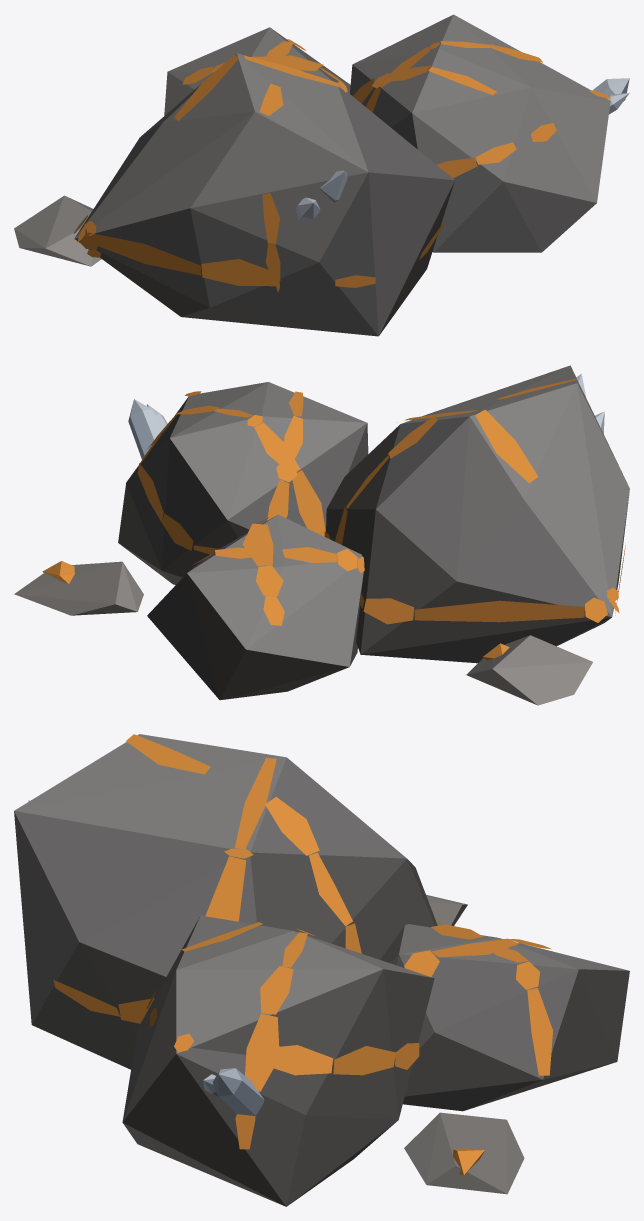
File: rock_lava_2.glb
3 renders of one model, top to bottom at view 1: azimuth 30°, elevation 25°; view 2: azimuth 150°, elevation 25°; view 3: azimuth 270°, elevation 25°, orthographic. The views are drawn at different scales.
Visible parts, largest first — view 1: Body; view 2: Body; view 3: Body.
Boxes of the visible parts, bbox=[...] form: Body: bbox=[14, 14, 629, 336]; Body: bbox=[14, 365, 629, 705]; Body: bbox=[14, 734, 629, 1206].
Size of the model in its own units: 3.69 by 1.44 by 3.2.
